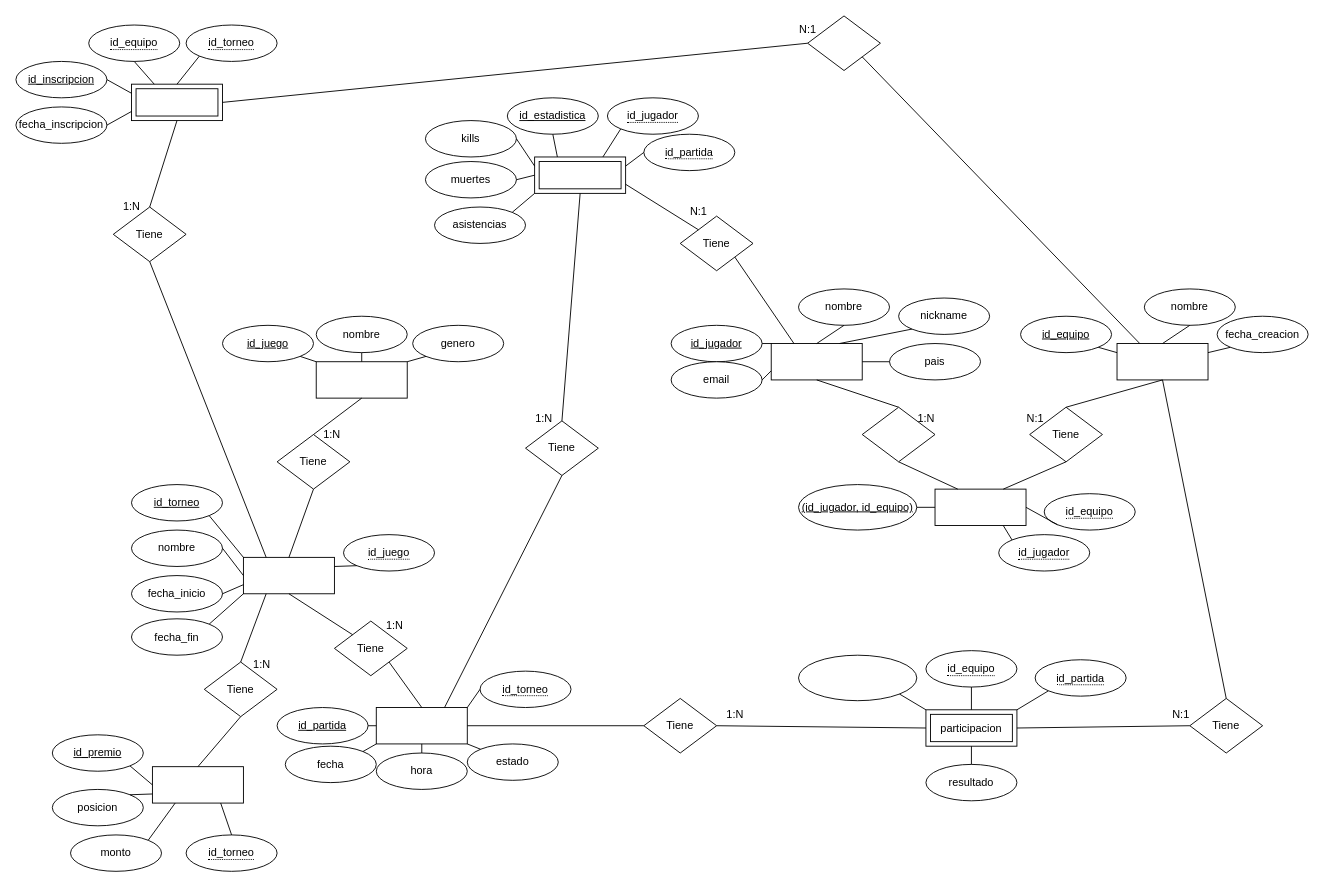
The diagram is 1324 pixels wide and 887 high, and some of its shapes have lost their labels. The box of each missing label's shape, as (x1, y1, x2, y2) in pixels:
(id_partida, id_equipo): (798, 654, 917, 701)
equipo: (1116, 343, 1208, 380)
estadistica: (534, 156, 626, 193)
inscripcion: (131, 83, 222, 121)
juego: (315, 361, 407, 398)
jugador: (770, 343, 862, 380)
jugador_equipo: (934, 488, 1026, 526)
partida: (375, 707, 467, 744)
Pertenece: (861, 406, 935, 462)
premio: (152, 766, 243, 803)
Realiza: (807, 15, 880, 71)
torneo: (243, 556, 334, 594)
